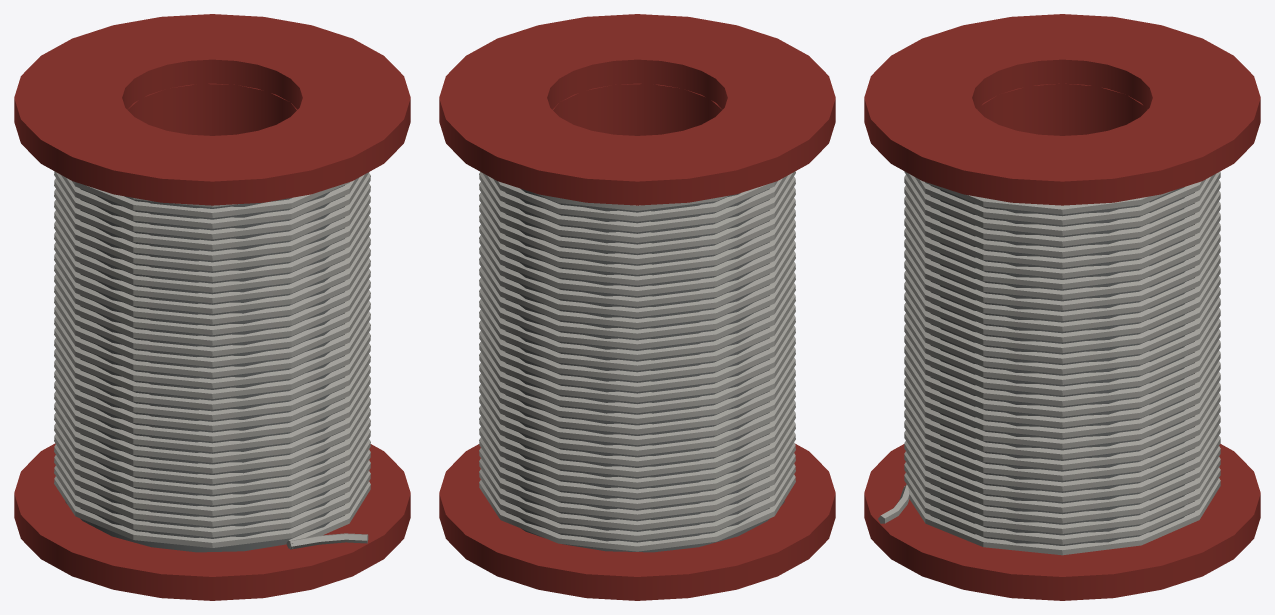
Rendered from solder-wire-spool-d48cdd5bb148.glb.
The picture shows the model from 3 angles, left to right: view 1: azimuth 30°, elevation 25°; view 2: azimuth 150°, elevation 25°; view 3: azimuth 270°, elevation 25°; orthographic projection.
Visible parts, largest first — view 1: brushed, enamel-red, metal; view 2: brushed, enamel-red, metal; view 3: brushed, enamel-red, metal.
Boxes of the visible parts, bbox=[...] form: brushed: bbox=[54, 171, 370, 549]; enamel-red: bbox=[14, 14, 410, 600]; metal: bbox=[65, 185, 343, 552]; brushed: bbox=[479, 171, 795, 551]; enamel-red: bbox=[439, 14, 835, 600]; metal: bbox=[505, 188, 784, 552]; brushed: bbox=[878, 171, 1220, 555]; enamel-red: bbox=[864, 14, 1260, 600]; metal: bbox=[930, 185, 1193, 549].
Bounding box in the file's own units: 0.09 × 0.105 × 0.09.
